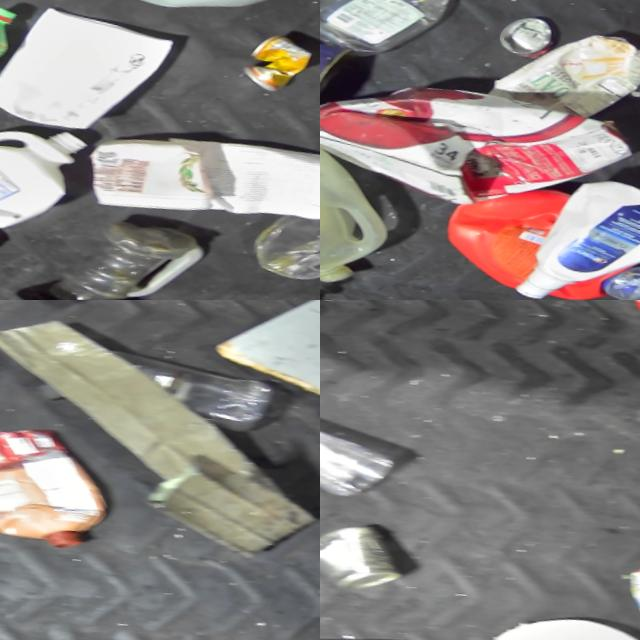can: (320, 518, 409, 603), (468, 9, 560, 74), (229, 36, 309, 107)
milk_jug: (0, 102, 84, 262), (452, 604, 640, 640)
non_white_jug: (0, 413, 114, 578), (320, 121, 395, 300)
plastic_bottle: (320, 0, 480, 83), (138, 358, 274, 435), (231, 199, 320, 300)
